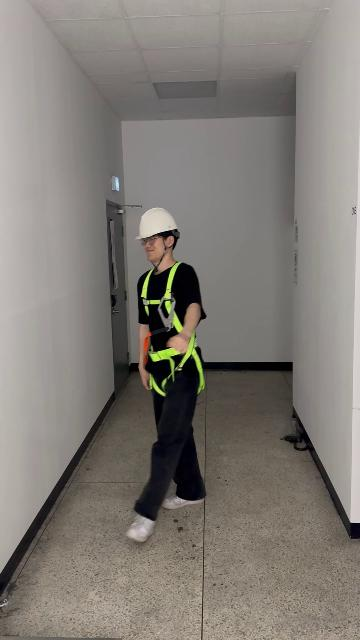helmet_worn: (134, 207, 180, 241)
shoe_not_worn: (126, 512, 156, 542), (161, 492, 205, 509)
vest_worn: (141, 266, 203, 394)
